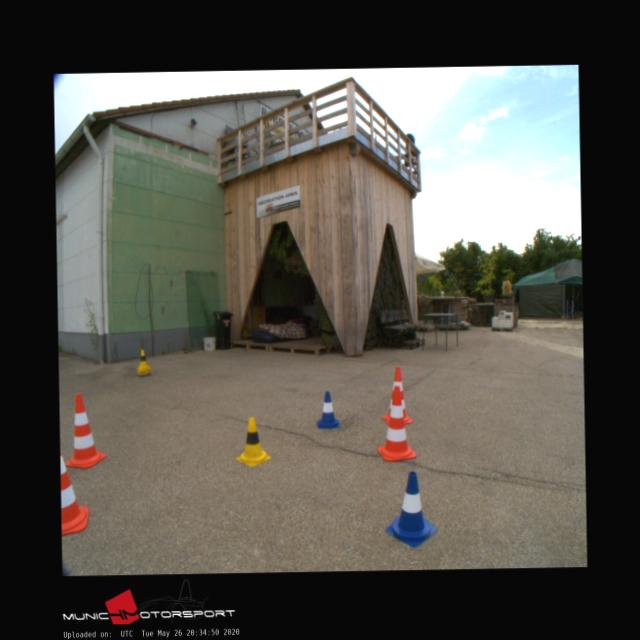blue_cone: (384, 470, 437, 548), (316, 390, 338, 428)
large_orange_cone: (376, 384, 416, 460), (63, 394, 105, 466), (60, 448, 88, 534), (381, 365, 412, 424)
yellow_cone: (236, 416, 270, 465), (135, 348, 148, 368)
